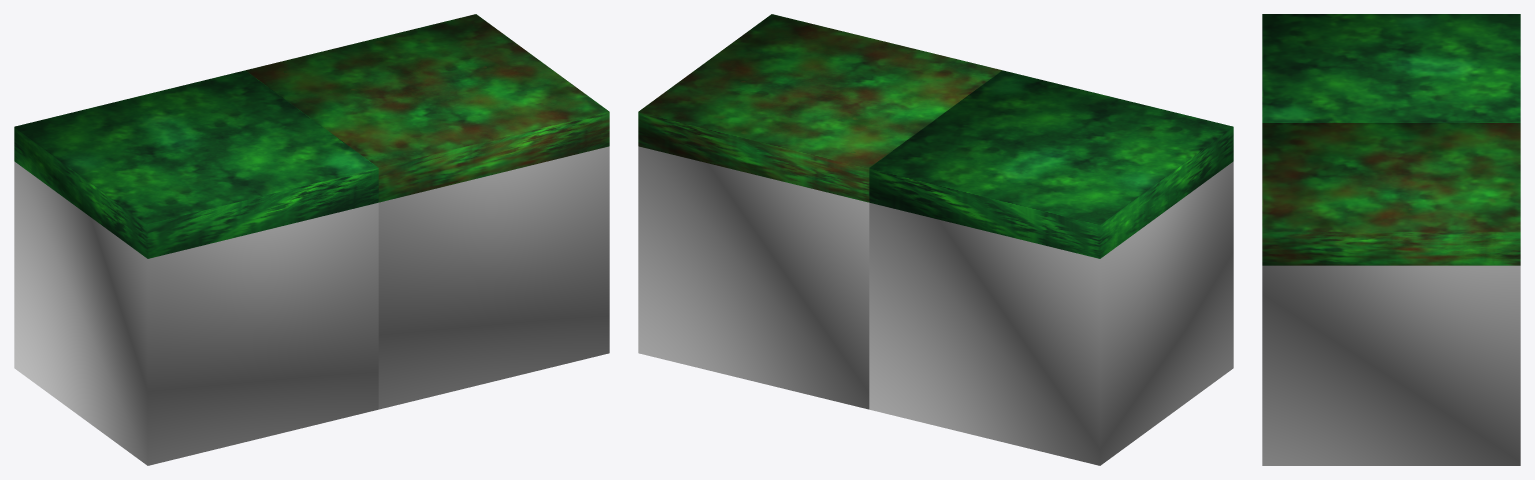
File: ChaoPrimavera.fbx
3 renders of one model, left to right at view 1: azimuth 30°, elevation 25°; view 2: azimuth 150°, elevation 25°; view 3: azimuth 270°, elevation 25°, orthographic. The views are drawn at different scales.
Visible parts, largest first — view 1: Chao2.005, Chao2.006; view 2: Chao2.005, Chao2.006; view 3: Chao2.006, Chao2.005.
Boxes of the visible parts, x1,y1,x2,y2 form: Chao2.005: [14, 70, 378, 465]; Chao2.006: [246, 14, 609, 409]; Chao2.005: [869, 70, 1233, 465]; Chao2.006: [638, 14, 1001, 409]; Chao2.006: [1262, 123, 1520, 465]; Chao2.005: [1262, 14, 1520, 122].
Size of the model in its own units: 2000 by 1001 by 1001.
